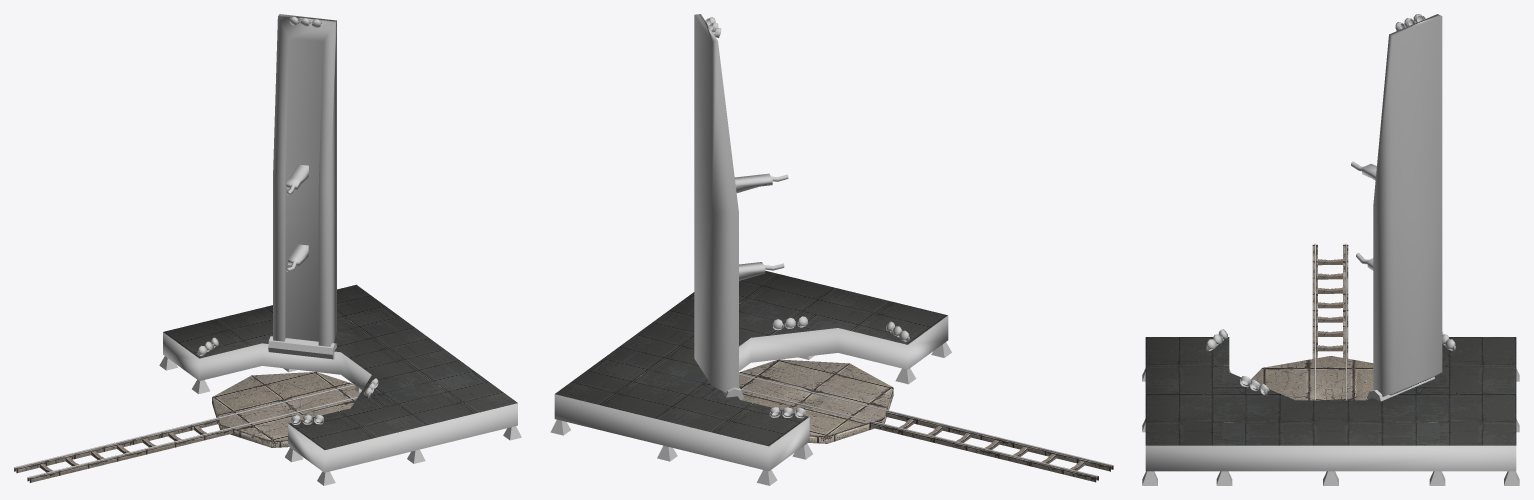
The model's file is Rocket_Pad_Gantry_Track 1.fbx.
3 views of the same model, side by side, from view 1: azimuth 30°, elevation 25°; view 2: azimuth 150°, elevation 25°; view 3: azimuth 270°, elevation 25° (orthographic). The views are drawn at different scales.
Parts seen in each view (by area): view 1: polySurface1053, Pad_B, Pad_A, Pad_Floor, Modular_Track, Extra_Lights; view 2: Pad_A, Pad_B, polySurface1053, Pad_Floor, Modular_Track, Extra_Lights; view 3: polySurface1053, Pad_B, Pad_A, Pad_Floor, Modular_Track, Extra_Lights.
Part boxes in pixels (x1,y1,x2,y2): polySurface1053: (268, 14, 336, 359); Pad_B: (285, 344, 521, 485); Pad_A: (159, 284, 436, 394); Pad_Floor: (212, 372, 360, 447); Modular_Track: (14, 417, 234, 482); Extra_Lights: (197, 337, 378, 425); Pad_A: (550, 328, 812, 485); Pad_B: (644, 271, 951, 384); polySurface1053: (694, 14, 788, 400); Pad_Floor: (739, 359, 893, 443); Modular_Track: (869, 409, 1113, 482); Extra_Lights: (769, 316, 909, 418); polySurface1053: (1351, 14, 1442, 401); Pad_B: (1142, 337, 1330, 485); Pad_A: (1323, 337, 1519, 485); Pad_Floor: (1251, 356, 1373, 400); Modular_Track: (1312, 243, 1348, 358); Extra_Lights: (1206, 329, 1455, 395).
Size of the model in its own units: 13.77 by 11.3 by 9.38.
